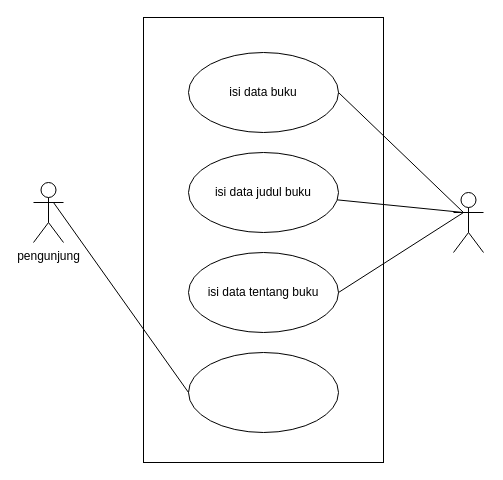
The diagram is 503 pixels wide and 480 high, and some of its shapes have lost their labels. The centre of each missing label's shape, as x and y in pixels:
"Admin" belongs at pixel 468 222.
"pencarian buku" belongs at pixel 263 392.
